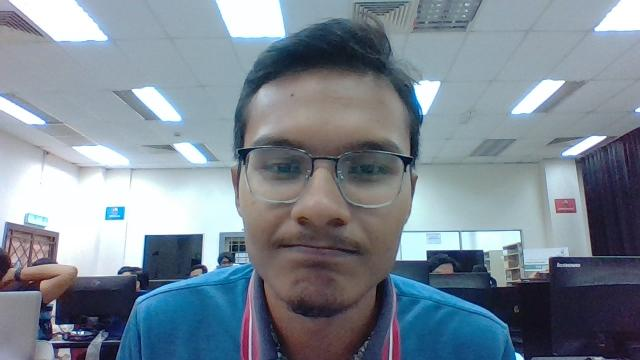senang: (219, 66, 435, 310)
